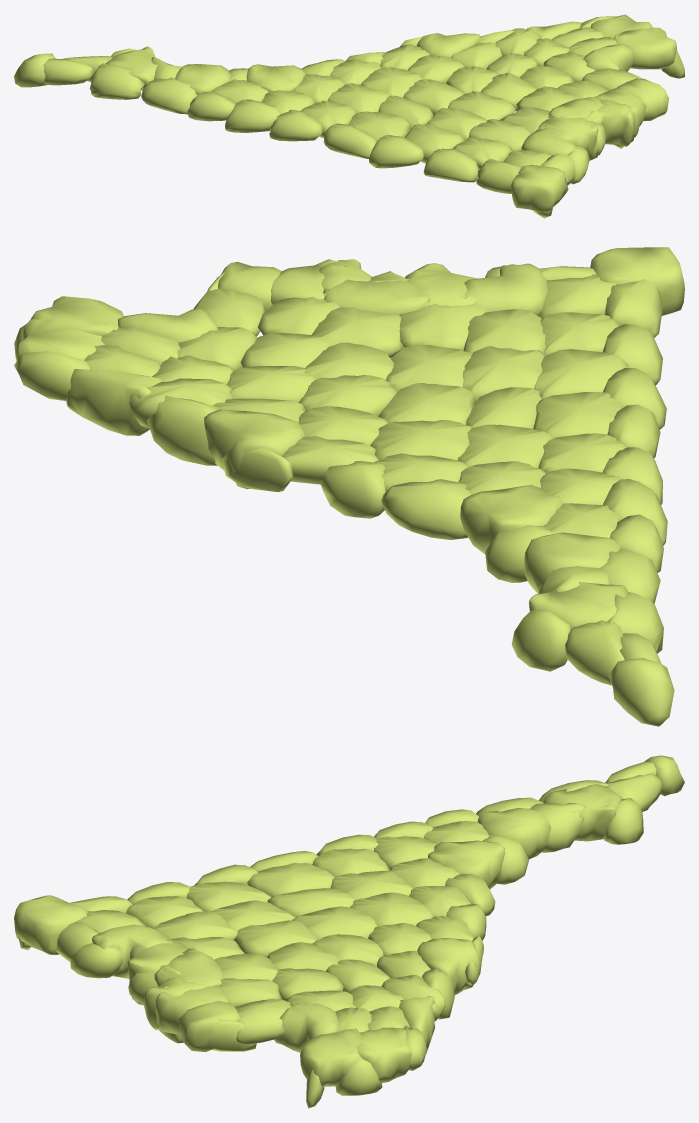
File: Islands4.005_fog.fbx
The picture shows the model from 3 angles, top to bottom: view 1: azimuth 30°, elevation 25°; view 2: azimuth 150°, elevation 25°; view 3: azimuth 270°, elevation 25°; orthographic projection. The views are drawn at different scales.
Visible parts, largest first — view 1: Island4.005_fog_cell.056, Island4.005_fog_cell.076, Island4.005_fog_cell.052, Island4.005_fog_cell.034, Island4.005_fog_cell.072, Island4.005_fog_cell.019, Island4.005_fog_cell.029, Island4.005_fog_cell.051, Island4.005_fog_cell.063, Island4.005_fog_cell.015, Island4.005_fog_cell.061, Island4.005_fog_cell.009 (+52 smaller); view 2: Island4.005_fog_cell.061, Island4.005_fog_cell.064, Island4.005_fog_cell.075, Island4.005_fog_cell.014, Island4.005_fog_cell.056, Island4.005_fog_cell.033, Island4.005_fog_cell.067, Island4.005_fog_cell.049, Island4.005_fog_cell.023, Island4.005_fog_cell.059, Island4.005_fog_cell.009, Island4.005_fog_cell.017 (+55 smaller); view 3: Island4.005_fog_cell.056, Island4.005_fog_cell.076, Island4.005_fog_cell.061, Island4.005_fog_cell.069, Island4.005_fog_cell.059, Island4.005_fog_cell.002, Island4.005_fog_cell.014, Island4.005_fog_cell.009, Island4.005_fog_cell.054, Island4.005_fog_cell.058, Island4.005_fog_cell.012, Island4.005_fog_cell.023 (+58 smaller).
Boxes of the visible parts, <box> form: Island4.005_fog_cell.056: <box>511,165,568,212</box>; Island4.005_fog_cell.076: <box>613,27,676,69</box>; Island4.005_fog_cell.052: <box>89,63,144,99</box>; Island4.005_fog_cell.034: <box>141,77,197,114</box>; Island4.005_fog_cell.072: <box>423,148,478,182</box>; Island4.005_fog_cell.019: <box>369,135,424,168</box>; Island4.005_fog_cell.029: <box>225,99,280,132</box>; Island4.005_fog_cell.051: <box>323,123,376,158</box>; Island4.005_fog_cell.063: <box>269,109,323,141</box>; Island4.005_fog_cell.015: <box>597,99,634,146</box>; Island4.005_fog_cell.061: <box>246,64,305,91</box>; Island4.005_fog_cell.009: <box>348,111,411,141</box>; Island4.005_fog_cell.061: <box>460,484,562,554</box>; Island4.005_fog_cell.064: <box>66,369,162,435</box>; Island4.005_fog_cell.075: <box>381,479,471,539</box>; Island4.005_fog_cell.014: <box>204,409,305,489</box>; Island4.005_fog_cell.056: <box>590,247,684,315</box>; Island4.005_fog_cell.033: <box>608,658,674,726</box>; Island4.005_fog_cell.067: <box>147,395,222,465</box>; Island4.005_fog_cell.049: <box>534,349,628,398</box>; Island4.005_fog_cell.023: <box>370,420,472,460</box>; Island4.005_fog_cell.059: <box>524,532,620,593</box>; Island4.005_fog_cell.009: <box>533,392,623,438</box>; Island4.005_fog_cell.017: <box>462,346,545,402</box>; Island4.005_fog_cell.056: <box>14,895,87,954</box>; Island4.005_fog_cell.076: <box>300,1028,362,1086</box>; Island4.005_fog_cell.061: <box>428,840,504,889</box>; Island4.005_fog_cell.069: <box>543,784,621,841</box>; Island4.005_fog_cell.059: <box>477,808,551,859</box>; Island4.005_fog_cell.002: <box>342,1027,411,1082</box>; Island4.005_fog_cell.014: <box>417,938,479,994</box>; Island4.005_fog_cell.009: <box>247,862,335,896</box>; Island4.005_fog_cell.054: <box>274,1002,338,1052</box>; Island4.005_fog_cell.058: <box>234,920,317,957</box>; Island4.005_fog_cell.012: <box>235,999,291,1044</box>; Island4.005_fog_cell.023: <box>350,892,433,926</box>.
Bounding box in the file's own units: 141 × 11.16 × 127.
